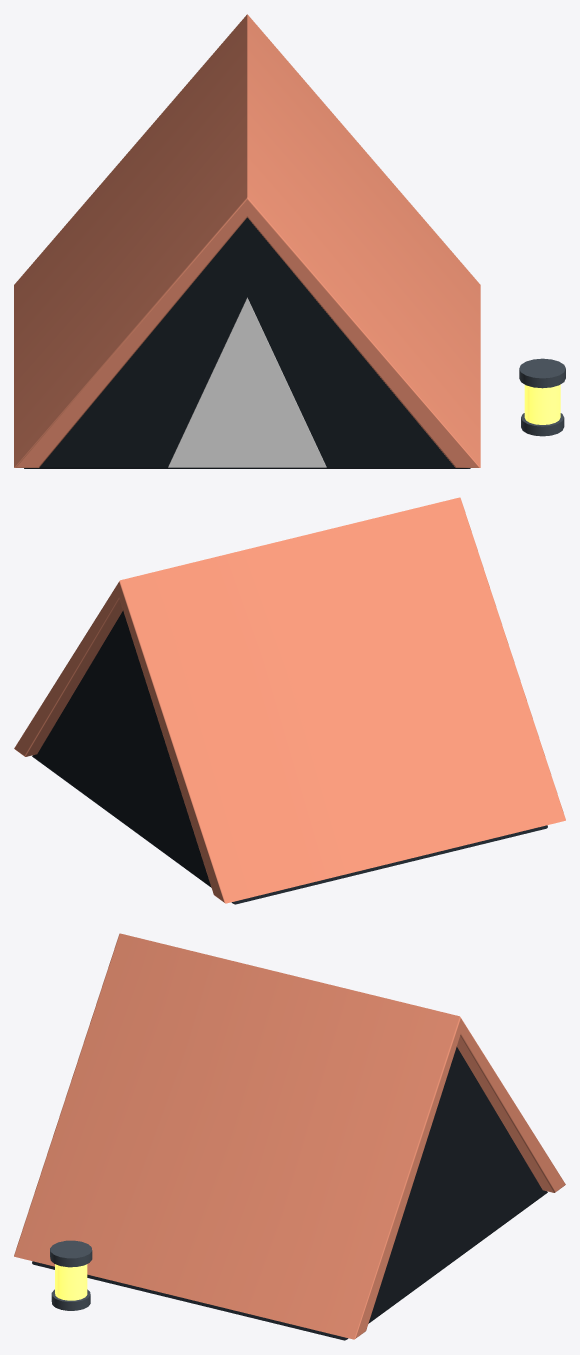
File: camp-tent.glb
3 renders of one model, top to bottom at view 1: azimuth 30°, elevation 25°; view 2: azimuth 150°, elevation 25°; view 3: azimuth 270°, elevation 25°, orthographic. The views are drawn at different scales.
Parts seen in each view (by area): view 1: titan.tent.fly, titan.tent.body, titan.tent.door, titan.tent.lantern-glass, titan.tent.lantern-top, titan.tent.lantern-base; view 2: titan.tent.fly, titan.tent.body; view 3: titan.tent.fly, titan.tent.body, titan.tent.lantern-glass, titan.tent.lantern-top.
Part boxes in pixels (x1=…): titan.tent.fly: x1=14, y1=14, x2=480, y2=467; titan.tent.body: x1=24, y1=217, x2=470, y2=468; titan.tent.door: x1=168, y1=297, x2=326, y2=467; titan.tent.lantern-glass: x1=524, y1=384, x2=560, y2=424; titan.tent.lantern-top: x1=519, y1=358, x2=565, y2=388; titan.tent.lantern-base: x1=521, y1=413, x2=564, y2=436; titan.tent.fly: x1=14, y1=497, x2=565, y2=903; titan.tent.body: x1=32, y1=610, x2=547, y2=904; titan.tent.fly: x1=14, y1=933, x2=565, y2=1339; titan.tent.body: x1=32, y1=1046, x2=547, y2=1340; titan.tent.lantern-glass: x1=55, y1=1264, x2=87, y2=1300; titan.tent.lantern-top: x1=50, y1=1240, x2=92, y2=1267.
Size of the model in its own units: 1.72 by 0.8565 by 1.69.
